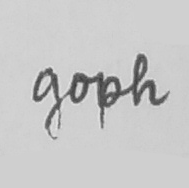g: (29, 65, 63, 143)
h: (129, 50, 161, 108)
o: (67, 70, 91, 106)
p: (94, 70, 123, 133)
